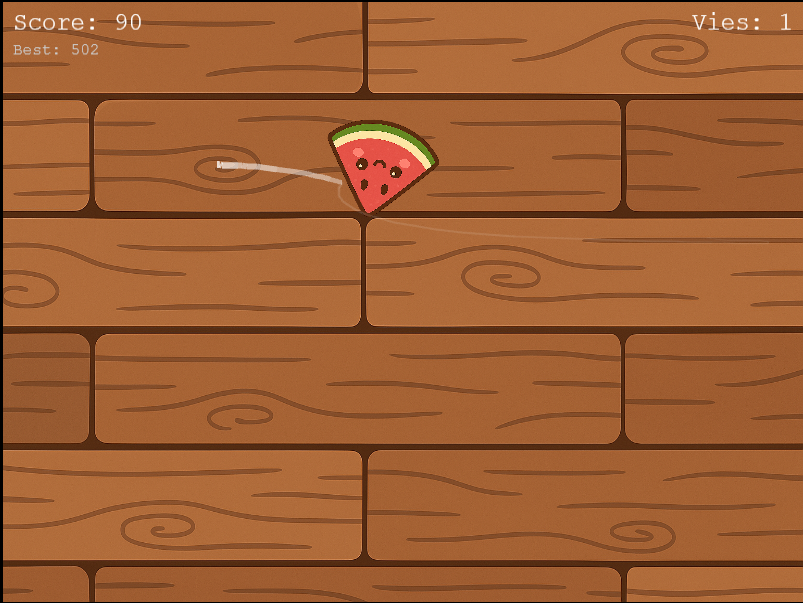fruit: (325, 118, 443, 221)
